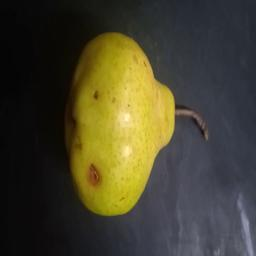Pear Semifresh: (49, 32, 211, 221)
